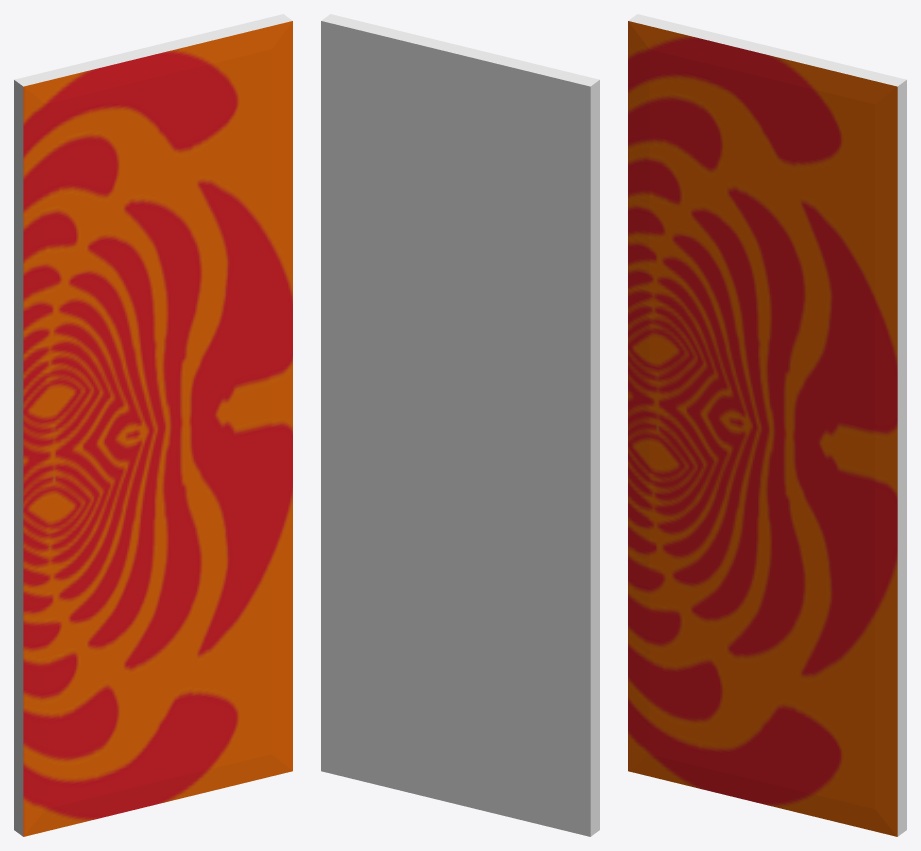
Rendered from Picture_Rec_01_B2.FBX.
3 views of the same model, side by side, from view 1: azimuth 30°, elevation 25°; view 2: azimuth 150°, elevation 25°; view 3: azimuth 330°, elevation 25° (orthographic).
Visible parts, largest first — view 1: Rectangle_Picture; view 2: Rectangle_Picture; view 3: Rectangle_Picture.
Part boxes in pixels (x1,y1,x2,y2): Rectangle_Picture: (14, 14, 292, 836); Rectangle_Picture: (321, 14, 599, 836); Rectangle_Picture: (628, 14, 906, 836).
Size of the model in its own units: 66.19 by 176 by 4.21.
